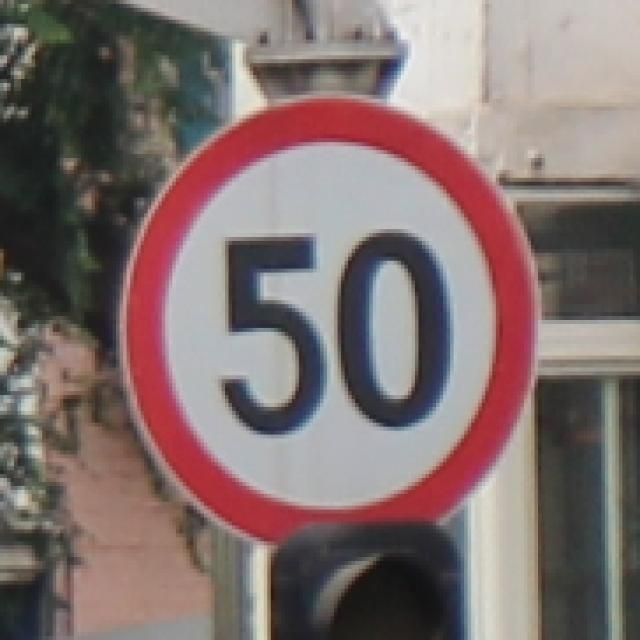Limite-50: (118, 91, 542, 554)
